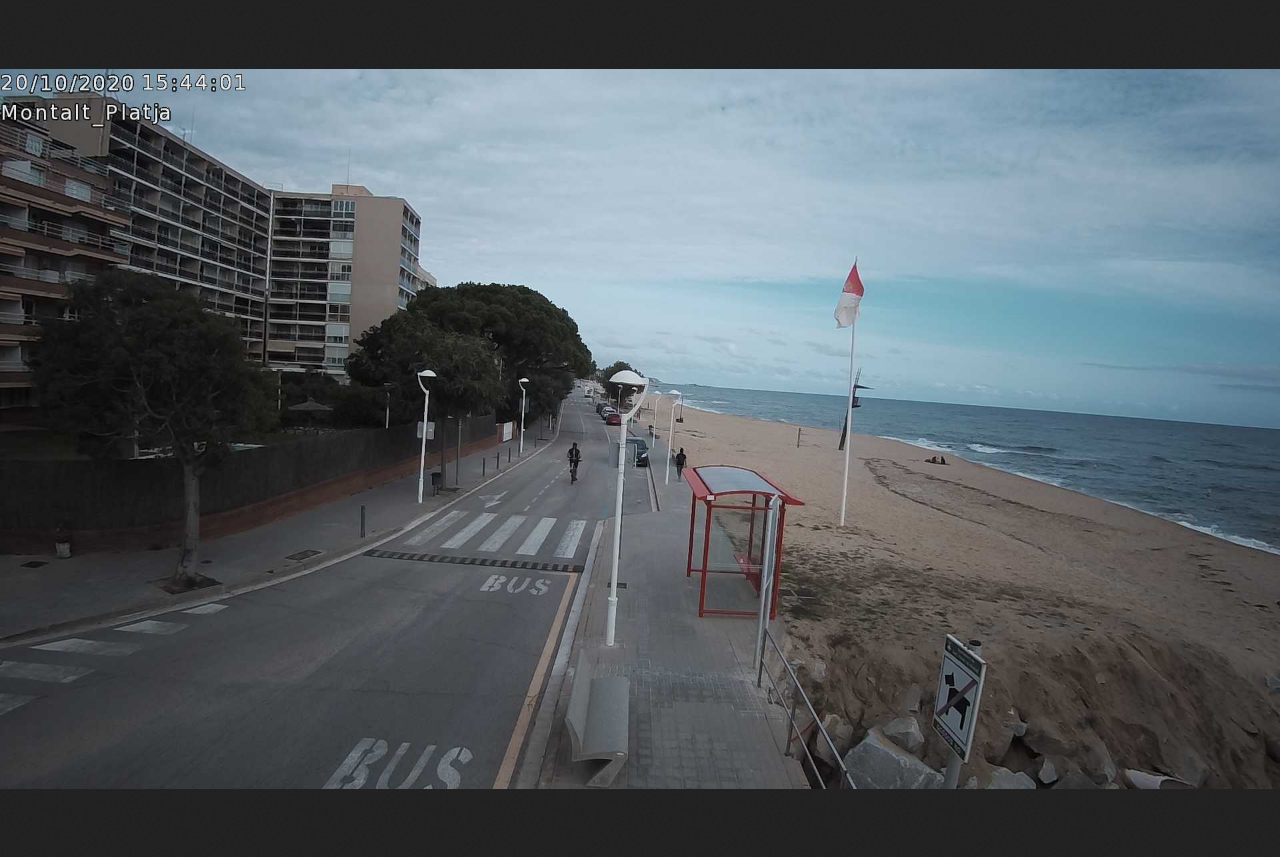maybe: (834, 262, 866, 332)
